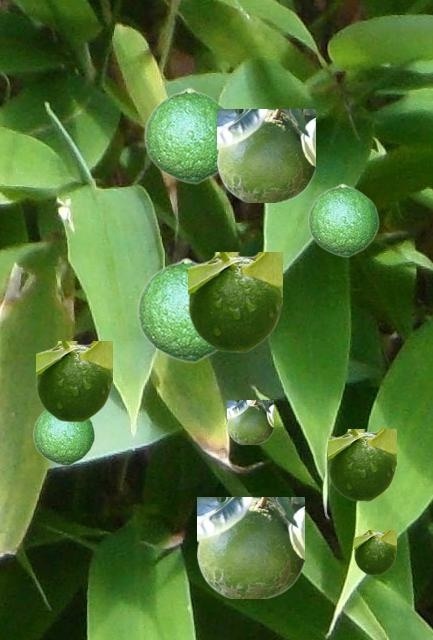dalandan: (197, 497, 303, 597), (188, 252, 281, 351), (217, 109, 314, 201), (136, 257, 217, 362), (143, 87, 227, 183), (36, 341, 111, 421), (307, 183, 378, 256), (328, 429, 395, 500), (32, 410, 94, 465), (227, 400, 272, 443), (354, 530, 395, 574)
